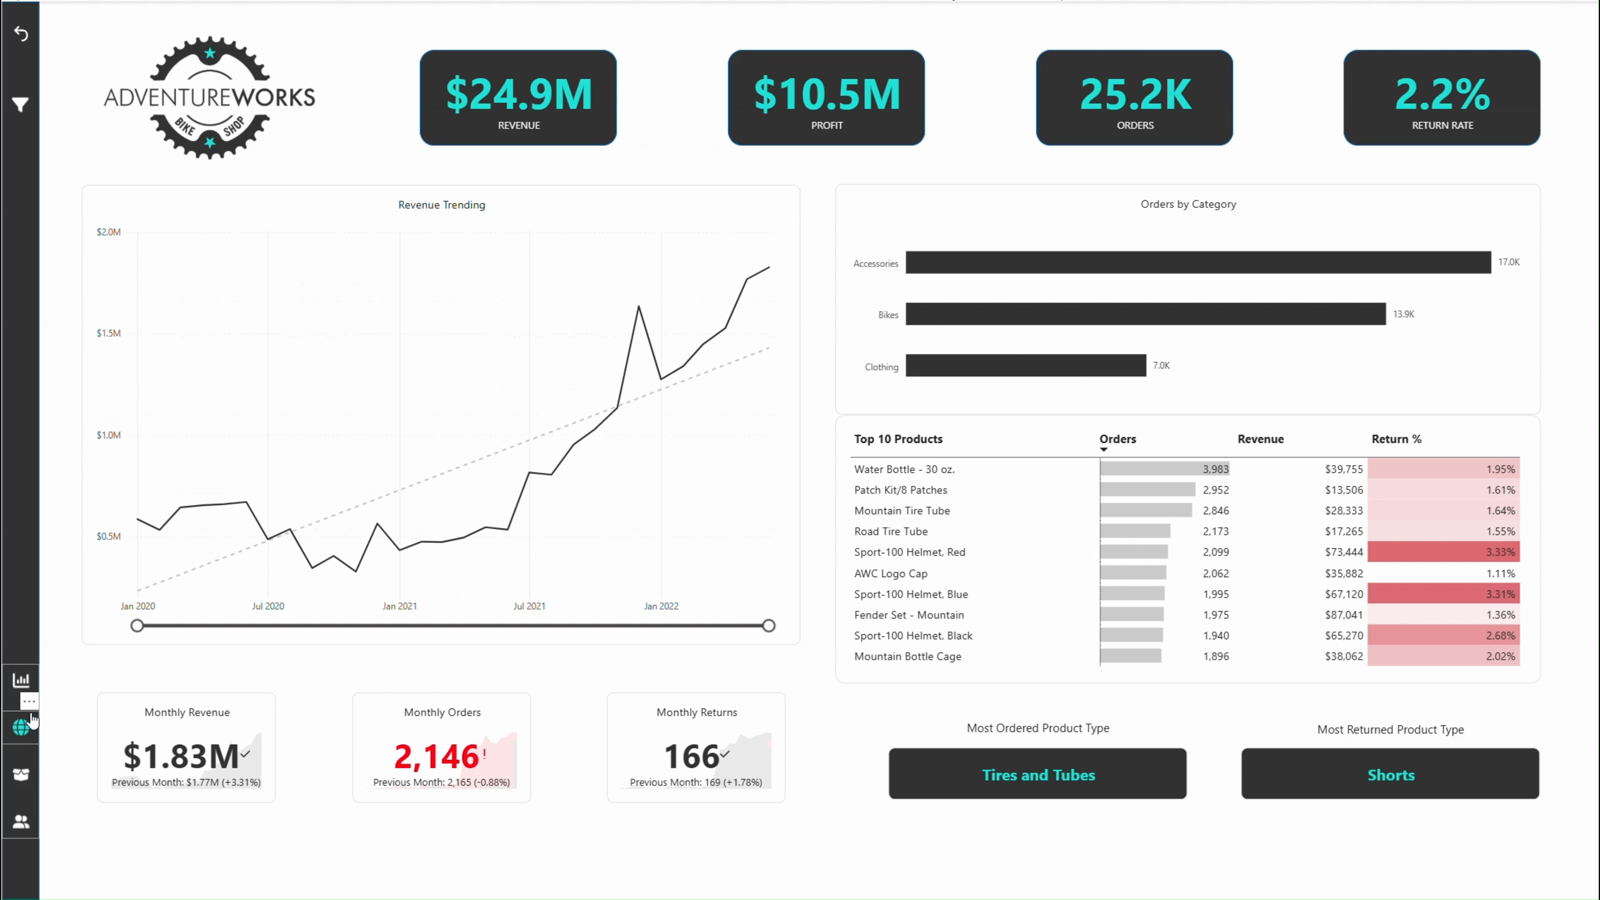

Layout of this report page (visuals, bound fields, positions):
{"tool":"powerbi","page":{"name":"Exec Dashboard","canvas":[1920,1080],"ordinal":0},"visuals":[{"type":"image","title":"AW Logo","box":[63.6,37.8,373.2,155.7],"z":0},{"type":"card","fields":{"Values":["Measure Table.Total Revenue"]},"box":[502.7,37.8,237.1,156.9],"z":0,"group":"g2"},{"type":"shape","box":[502.2,58.2,237.1,115.4],"z":0,"group":"g1"},{"type":"group","id":"g1","title":"KPI Background","box":[502.2,58.2,1347.9,115.4],"z":0,"group":"g3"},{"type":"actionButton","box":[0,795.8,45.5,40.6],"z":0,"group":"g5"},{"type":"kpi","title":"Monthly Revenue","fields":{"Goal":["Measure Table.Previous Month Revenue"],"Indicator":["Measure Table.Total Revenue"],"TrendLine":["Calendar Lookup.Start of month"]},"box":[114.3,830.3,215,133],"z":0,"group":"g4"},{"type":"shape","title":"Left Nav Background","box":[0,0,45,1080],"z":1000},{"type":"group","id":"g2","title":"KPI Values","box":[502.7,37.8,1347.7,156.9],"z":1000,"group":"g3"},{"type":"card","fields":{"Values":["Measure Table.Total Profit"]},"box":[872.9,37.8,237.1,156.9],"z":1000,"group":"g2"},{"type":"shape","box":[1613,58.2,237.1,115.4],"z":1000,"group":"g1"},{"type":"kpi","title":"Monthly Orders","fields":{"Goal":["Measure Table.Previous Month Orders"],"Indicator":["Measure Table.Total Orders"],"TrendLine":["Calendar Lookup.Start of month"]},"box":[420.8,830.3,215,133],"z":1000,"group":"g4"},{"type":"actionButton","box":[0,852.4,45.5,40.6],"z":1000,"group":"g5"},{"type":"group","id":"g3","title":"KPIs","box":[502.2,37.8,1347.2,156.7],"z":2000},{"type":"card","fields":{"Values":["Measure Table.Total Orders"]},"box":[1243.1,37.8,237.1,156.9],"z":2000,"group":"g2"},{"type":"shape","box":[1242.7,58.2,237.1,115.4],"z":2000,"group":"g1"},{"type":"kpi","title":"Monthly Returns","fields":{"Goal":["Measure Table.Previous Month Returns"],"Indicator":["Measure Table.Total Returns"],"TrendLine":["Calendar Lookup.Start of month"]},"box":[727.3,830.3,215,133],"z":2000,"group":"g4"},{"type":"actionButton","box":[0,965.5,45.5,40.6],"z":2000,"group":"g5"},{"type":"card","fields":{"Values":["Measure Table.Return Rate"]},"box":[1613.3,37.8,237.1,156.9],"z":3000,"group":"g2"},{"type":"shape","box":[872.5,58.2,237.1,115.4],"z":3000,"group":"g1"},{"type":"lineChart","title":"Revenue Trending","fields":{"Category":["Calendar Lookup.Year","Calendar Lookup.Start of quarter","Calendar Lookup.Start of month"],"Y":["Measure Table.Total Revenue"]},"box":[95.8,220.2,864.4,552.9],"z":3000},{"type":"actionButton","box":[0,909,45.5,40.6],"z":3000,"group":"g5"},{"type":"group","id":"g4","title":"KPIs 2","box":[114.3,830.3,827.5,132.7],"z":4000},{"type":"clusteredBarChart","title":" Orders by Category","fields":{"Category":["Product Categories Lookup.CategoryName"],"Y":["Measure Table.Total Orders"]},"box":[1001.7,219.3,847.8,277.4],"z":5000},{"type":"tableEx","fields":{"Values":["Product Lookup.ProductName","Measure Table.Total Orders","Measure Table.Total Revenue","Measure Table.Return Rate"]},"box":[1001.7,496.7,847.8,322.5],"z":6000},{"type":"cardVisual","fields":{"Data":["Min(Product Subcategories Lookup.SubcategoryName)"]},"box":[1065.3,896.6,360.3,63.6],"z":7000},{"type":"textbox","box":[1140.8,863.4,209.8,18.8],"z":8000},{"type":"cardVisual","fields":{"Data":["Min(Product Subcategories Lookup.SubcategoryName)"]},"box":[1489.1,896.6,360.3,63.6],"z":9000},{"type":"textbox","box":[1564.7,865.3,209.8,18.8],"z":10000},{"type":"actionButton","box":[0,18.5,45.6,39.4],"z":11000},{"type":"group","id":"g5","title":"Nav buttons","box":[0,795.8,45.5,210.3],"z":12000},{"type":"actionButton","title":"Filter","box":[0,104.6,44.6,40.4],"z":13000}]}

Visuals, with their boxes on the page's 1920x1080 design canvas (x1, y1, x2, y2). These are canvas units, not pixel positions in the 1600x900 screenshot, which may show the page scaled, cropped or inside an application window:
"AW Logo" image: rect(64, 38, 437, 194)
card - Measure Table.Total Revenue: rect(503, 38, 740, 195)
shape: rect(502, 58, 739, 174)
"KPI Background" group: rect(502, 58, 1850, 174)
actionButton: rect(0, 796, 46, 836)
"Monthly Revenue" kpi: rect(114, 830, 329, 963)
"Left Nav Background" shape: rect(0, 0, 45, 1080)
"KPI Values" group: rect(503, 38, 1850, 195)
card - Measure Table.Total Profit: rect(873, 38, 1110, 195)
shape: rect(1613, 58, 1850, 174)
"Monthly Orders" kpi: rect(421, 830, 636, 963)
actionButton: rect(0, 852, 46, 893)
"KPIs" group: rect(502, 38, 1849, 194)
card - Measure Table.Total Orders: rect(1243, 38, 1480, 195)
shape: rect(1243, 58, 1480, 174)
"Monthly Returns" kpi: rect(727, 830, 942, 963)
actionButton: rect(0, 966, 46, 1006)
card - Measure Table.Return Rate: rect(1613, 38, 1850, 195)
shape: rect(872, 58, 1110, 174)
"Revenue Trending" lineChart: rect(96, 220, 960, 773)
actionButton: rect(0, 909, 46, 950)
"KPIs 2" group: rect(114, 830, 942, 963)
" Orders by Category" clusteredBarChart: rect(1002, 219, 1850, 497)
tableEx - Product Lookup.ProductName x Measure Table.Total Orders: rect(1002, 497, 1850, 819)
cardVisual - Min(Product Subcategories Lookup.SubcategoryName): rect(1065, 897, 1426, 960)
textbox: rect(1141, 863, 1351, 882)
cardVisual - Min(Product Subcategories Lookup.SubcategoryName): rect(1489, 897, 1849, 960)
textbox: rect(1565, 865, 1774, 884)
actionButton: rect(0, 18, 46, 58)
"Nav buttons" group: rect(0, 796, 46, 1006)
"Filter" actionButton: rect(0, 105, 45, 145)
